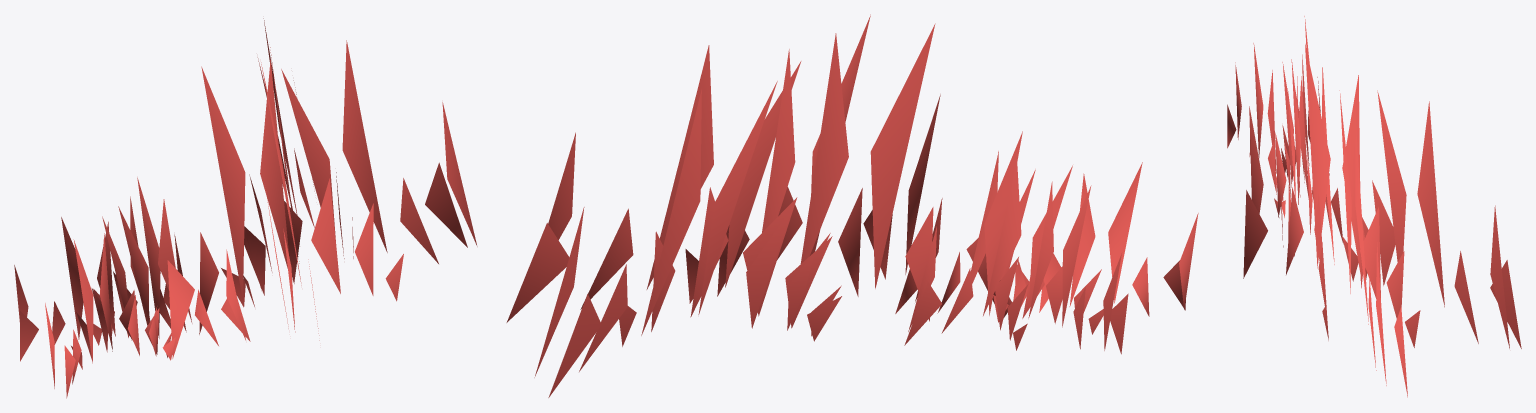
The model's file is Grass_SM.fbx.
The picture shows the model from 3 angles, left to right: view 1: azimuth 30°, elevation 25°; view 2: azimuth 150°, elevation 25°; view 3: azimuth 270°, elevation 25°; orthographic projection. The views are drawn at different scales.
Parts seen in each view (by area): view 1: Grass_SM; view 2: Grass_SM; view 3: Grass_SM.
Boxes of the visible parts, x1,y1,x2,y2 form: Grass_SM: [14, 18, 477, 398]; Grass_SM: [506, 14, 1198, 397]; Grass_SM: [1227, 16, 1521, 397].
Bounding box in the file's own units: 79.32 × 44.37 × 46.77.
